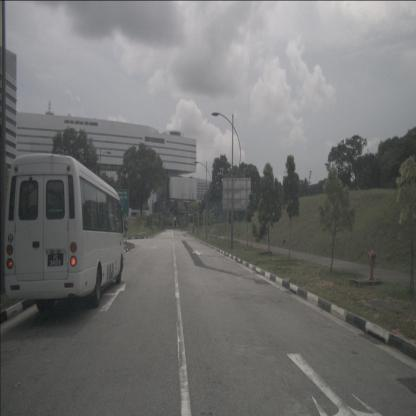vehicle-bus-rigid: (4, 153, 124, 312)
